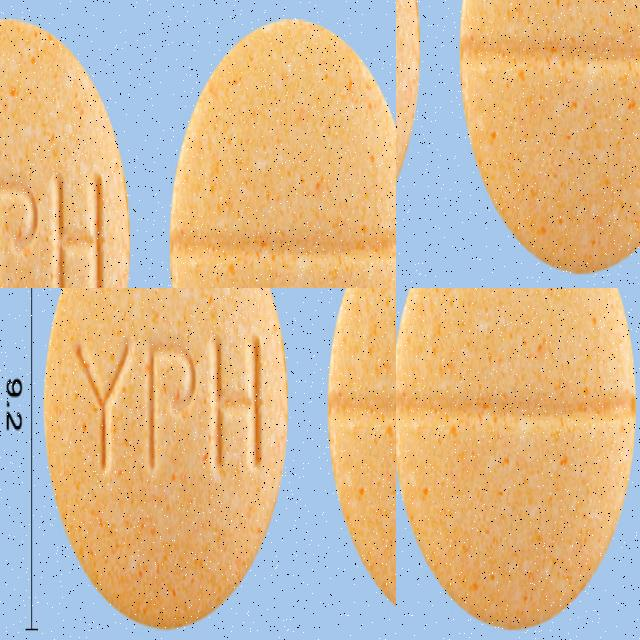Doxycycline Tab- Youngpoong: (396, 288, 638, 630)
Levoflo: (396, 97, 476, 288)
Levoracin: (179, 19, 396, 288), (0, 25, 127, 288)
Rheumakin Tab: (43, 383, 337, 631)
